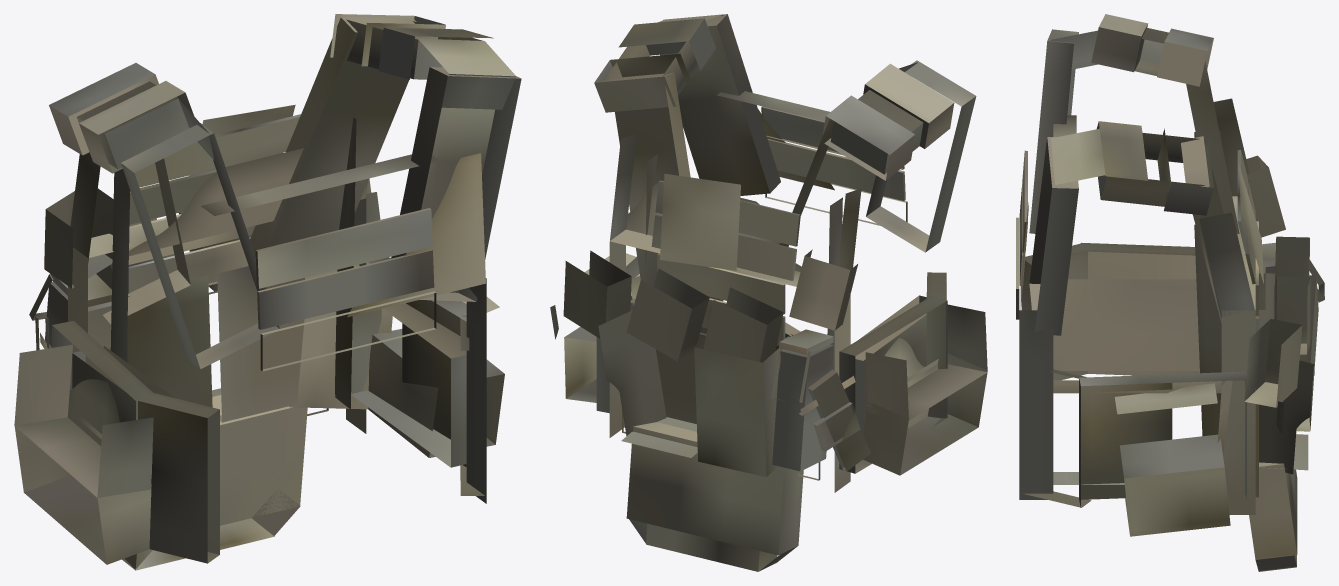
The model's file is tmspmg.obj.
3 renders of one model, left to right at view 1: azimuth 30°, elevation 25°; view 2: azimuth 150°, elevation 25°; view 3: azimuth 270°, elevation 25°, orthographic. The views are drawn at different scales.
Visible parts, largest first — view 1: cuboid; view 2: cuboid; view 3: cuboid.
Part boxes in pixels (x1=…): cuboid: x1=14, y1=14, x2=521, y2=570; cuboid: x1=550, y1=14, x2=987, y2=571; cuboid: x1=1016, y1=14, x2=1324, y2=571.
Bounding box in the file's own units: 0.7892 × 0.9601 × 0.5723.
